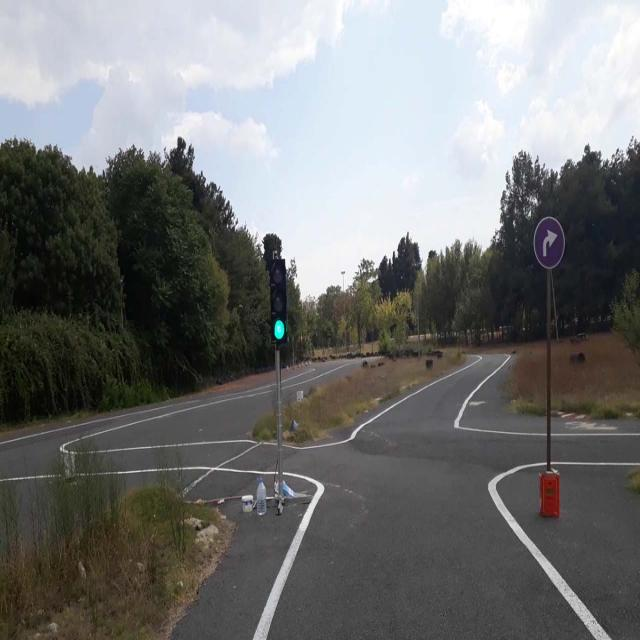sag: (534, 217, 564, 269)
yesil: (269, 258, 287, 338)
